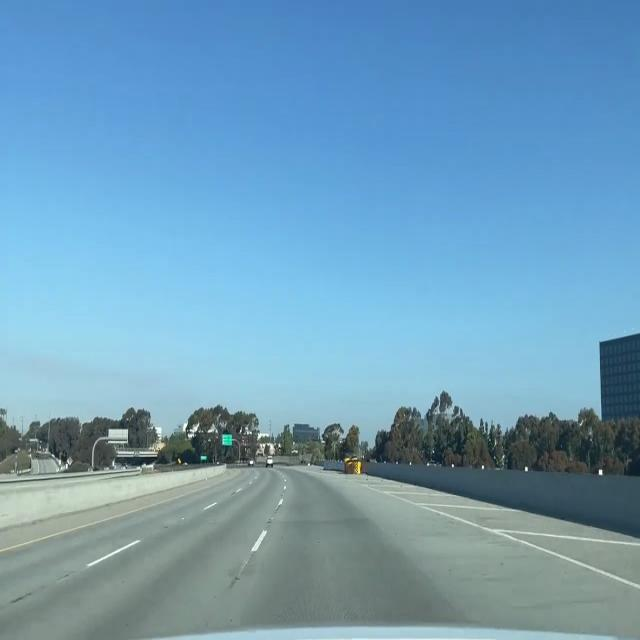street-signs: (222, 434, 233, 446), (200, 456, 207, 460)
